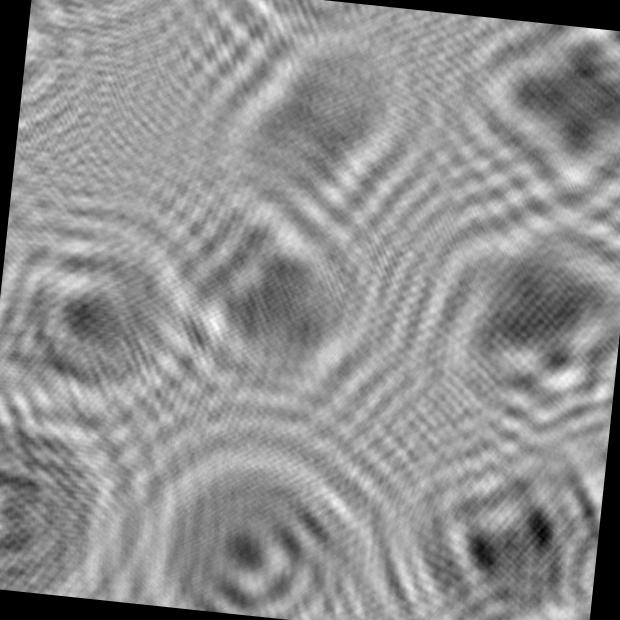E: (366, 413, 608, 620)
I: (177, 0, 461, 255)
J: (0, 186, 229, 447)
K: (389, 185, 620, 463)
O: (0, 375, 153, 603)
T: (122, 156, 414, 440)
U: (111, 413, 406, 620)
X: (418, 12, 620, 218)
